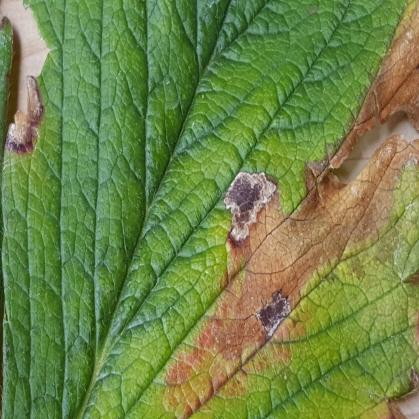Angular Leafspot: (148, 0, 418, 418)
